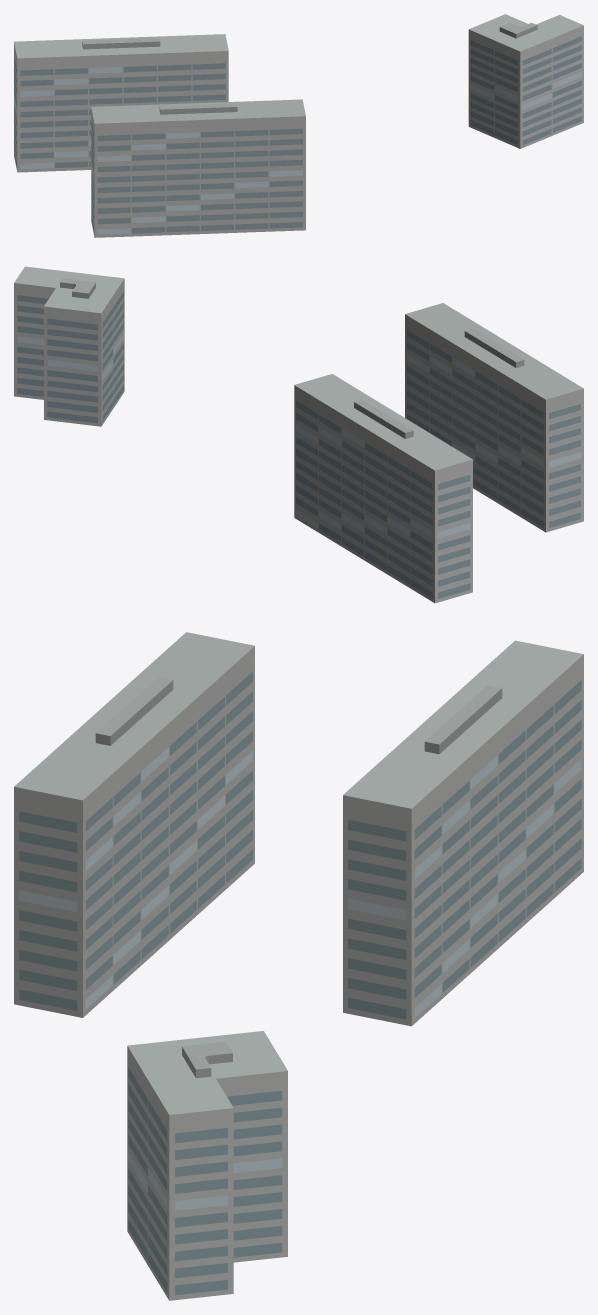
The model's file is apt-a13484003.glb.
The picture shows the model from 3 angles, top to bottom: view 1: azimuth 30°, elevation 25°; view 2: azimuth 150°, elevation 25°; view 3: azimuth 270°, elevation 25°; orthographic projection. The views are drawn at different scales.
Parts seen in each view (by area): view 1: apt-a13484003; view 2: apt-a13484003; view 3: apt-a13484003.
Part boxes in pixels (x1=…): apt-a13484003: x1=14, y1=14, x2=583, y2=237; apt-a13484003: x1=14, y1=266, x2=583, y2=603; apt-a13484003: x1=14, y1=632, x2=583, y2=1300.
Bounding box in the file's own units: 149 × 35.06 × 79.65.
